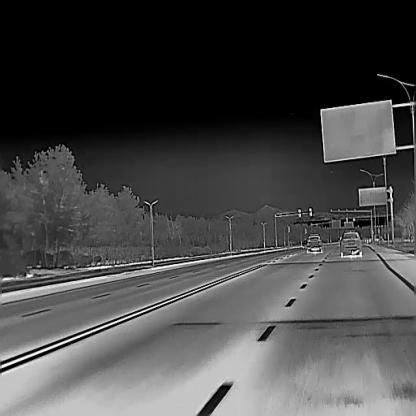car: (337, 232, 362, 256), (306, 233, 323, 254), (300, 238, 306, 250)
